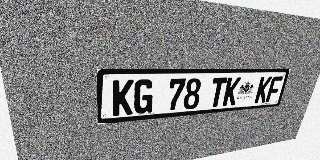7: (166, 78, 186, 111)
8: (182, 78, 203, 110)
F: (265, 76, 283, 102)
G: (133, 79, 154, 114)
K: (112, 80, 134, 116), (222, 77, 241, 106), (254, 76, 272, 103)
T: (208, 77, 228, 107)
